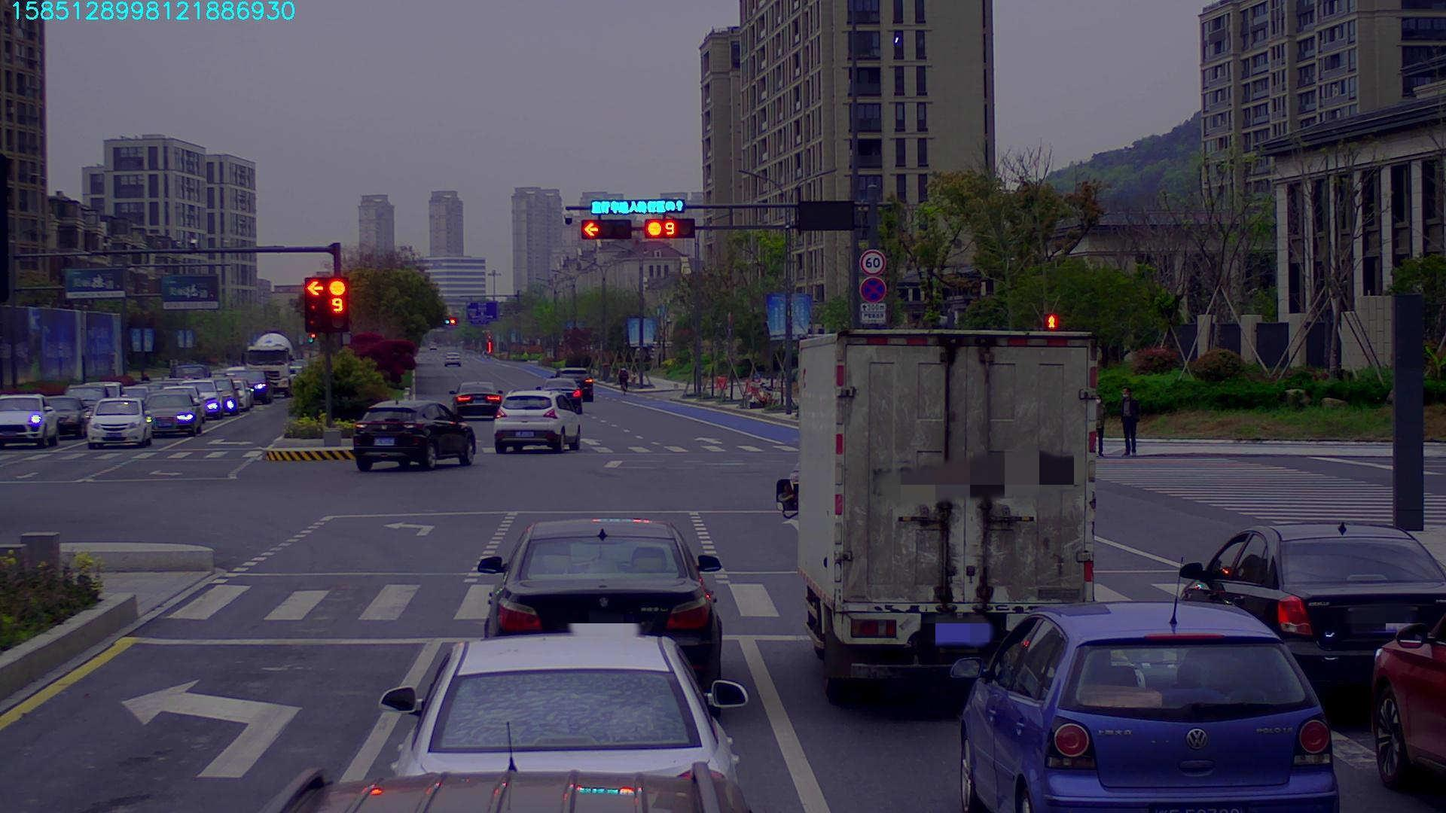red: (578, 220, 632, 237), (638, 218, 688, 236)
wait_on: (590, 197, 686, 213)
